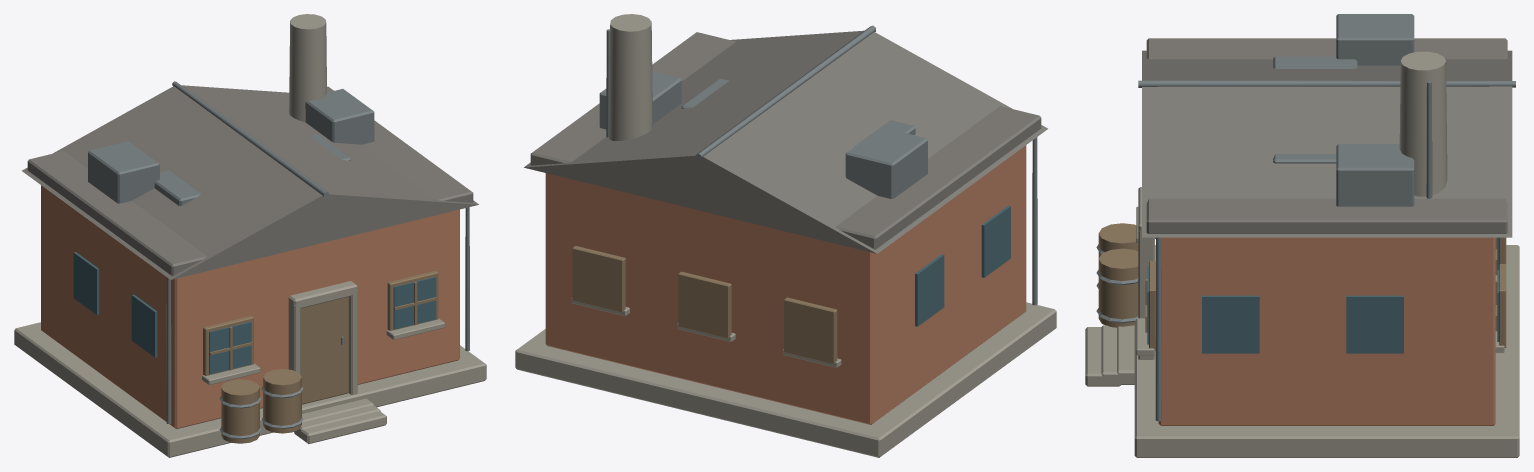
Rendered from bld_atelier_a06.glb.
3 renders of one model, left to right at view 1: azimuth 30°, elevation 25°; view 2: azimuth 150°, elevation 25°; view 3: azimuth 270°, elevation 25°, orthographic. The views are drawn at different scales.
Parts seen in each view (by area): view 1: bld_atelier_a06; view 2: bld_atelier_a06; view 3: bld_atelier_a06.
Boxes of the visible parts, bbox=[...] form: bld_atelier_a06: bbox=[14, 14, 486, 457]; bld_atelier_a06: bbox=[515, 14, 1056, 457]; bld_atelier_a06: bbox=[1085, 14, 1519, 457].
Size of the model in its own units: 3.8 by 3.31 by 3.61.
